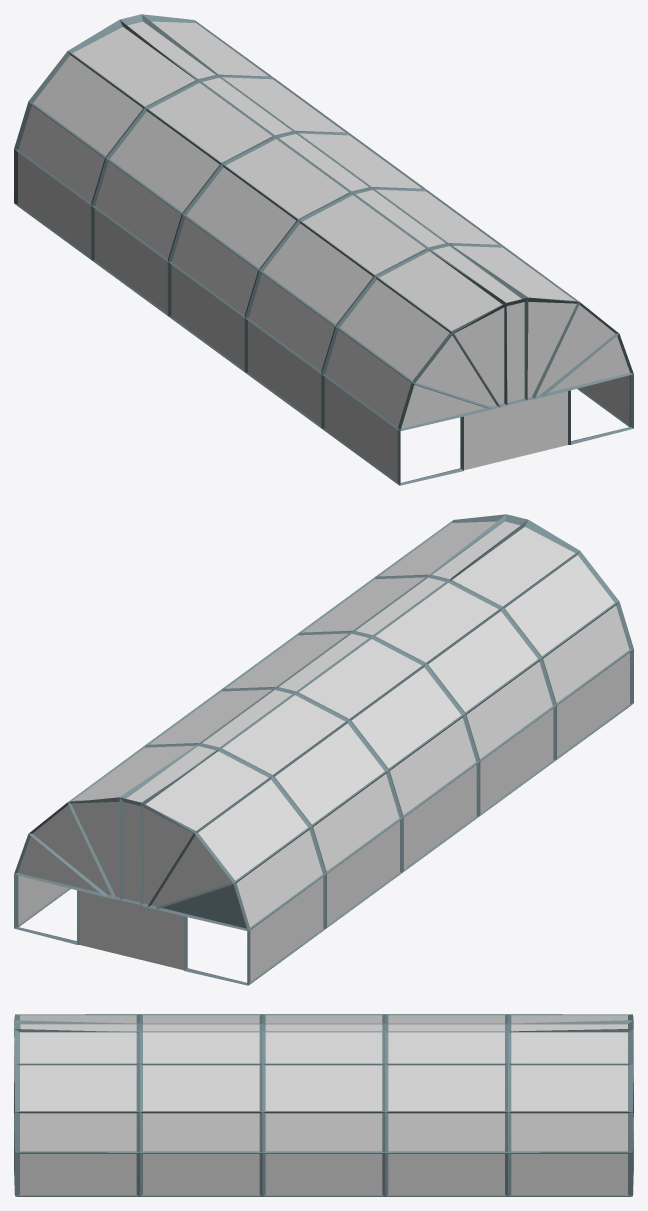
File: GreenHouse.fbx
3 views of the same model, one above another, from view 1: azimuth 30°, elevation 25°; view 2: azimuth 150°, elevation 25°; view 3: azimuth 270°, elevation 25° (orthographic). The views are drawn at different scales.
Parts seen in each view (by area): view 1: GreenHouse; view 2: GreenHouse; view 3: GreenHouse.
Boxes of the visible parts, x1=… form: GreenHouse: x1=14, y1=14, x2=633, y2=485; GreenHouse: x1=14, y1=514, x2=633, y2=985; GreenHouse: x1=14, y1=1014, x2=633, y2=1196.
Size of the model in its own units: 4.61 by 2.98 by 13.17.
